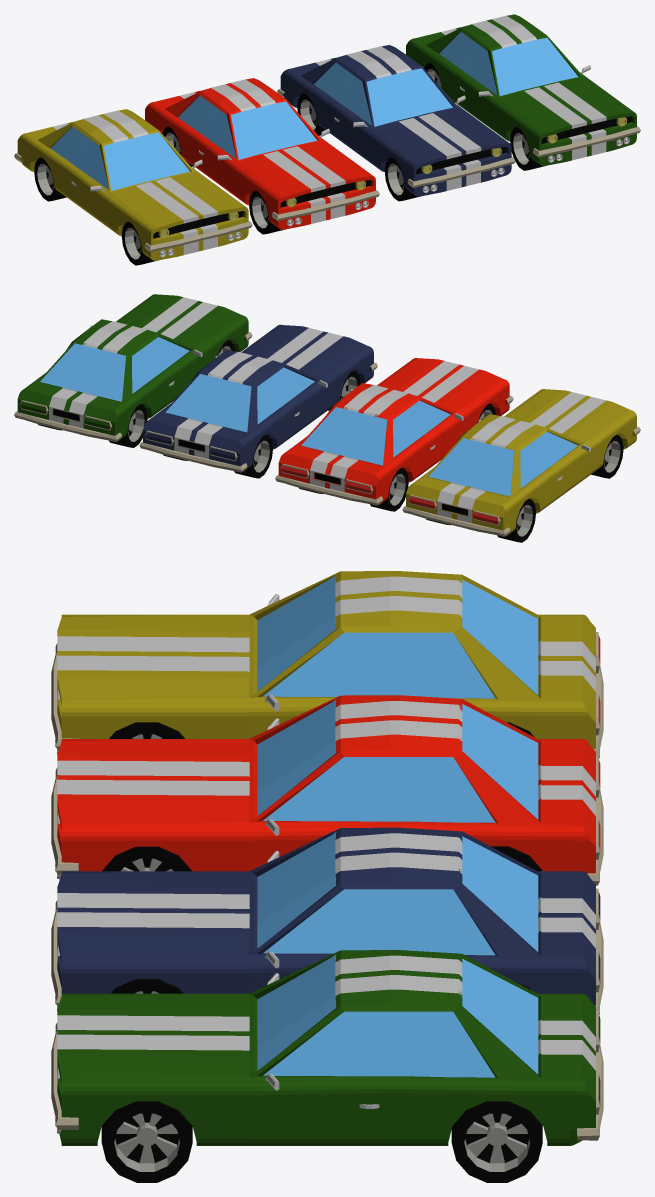
File: MustangCarModel.fbx
3 views of the same model, one above another, from view 1: azimuth 30°, elevation 25°; view 2: azimuth 150°, elevation 25°; view 3: azimuth 270°, elevation 25° (orthographic). The views are drawn at different scales.
Parts seen in each view (by area): view 1: MustangCarFrame.005, MustangCarFrame.001, MustangCarFrame, MustangCarFrame.003, FrontRightWheel.001, FrontRightWheel, FrontRightWheel.003, BackRightWheel.003, FrontRightWheel.002, BackRightWheel.001; view 2: MustangCarFrame.005, MustangCarFrame.001, MustangCarFrame, MustangCarFrame.003, BackRightWheel.001, BackRightWheel.003, BackRightWheel, FrontRightWheel.003, BackRightWheel.002; view 3: MustangCarFrame.003, MustangCarFrame, MustangCarFrame.005, MustangCarFrame.001, FrontLeftWheel.002, BackLeftWheel.002, FrontLeftWheel, FrontLeftWheel.003.
Boxes of the visible parts, x1,y1,x2,y2 form: MustangCarFrame.005: [14, 109, 252, 260]; MustangCarFrame.001: [277, 45, 515, 196]; MustangCarFrame: [145, 78, 379, 229]; MustangCarFrame.003: [406, 14, 640, 165]; FrontRightWheel.001: [384, 157, 420, 201]; FrontRightWheel: [249, 190, 285, 234]; FrontRightWheel.003: [121, 221, 158, 265]; BackRightWheel.003: [34, 157, 66, 201]; FrontRightWheel.002: [510, 127, 546, 170]; BackRightWheel.001: [297, 93, 324, 135]; MustangCarFrame.005: [402, 389, 640, 536]; MustangCarFrame.001: [139, 324, 377, 472]; MustangCarFrame: [275, 358, 513, 505]; MustangCarFrame.003: [14, 294, 252, 441]; BackRightWheel.001: [234, 434, 272, 478]; BackRightWheel.003: [497, 499, 535, 542]; BackRightWheel: [370, 467, 408, 511]; FrontRightWheel.003: [591, 434, 623, 478]; BackRightWheel.002: [109, 404, 147, 447]; MustangCarFrame.003: [51, 950, 603, 1145]; MustangCarFrame: [51, 695, 603, 885]; MustangCarFrame.005: [51, 571, 603, 758]; MustangCarFrame.001: [51, 827, 603, 1014]; FrontLeftWheel.002: [101, 1101, 192, 1182]; BackLeftWheel.002: [451, 1101, 542, 1182]; FrontLeftWheel: [102, 846, 192, 871]; FrontLeftWheel.003: [109, 722, 184, 738].
Size of the model in its own units: 1487 by 236 by 711.
